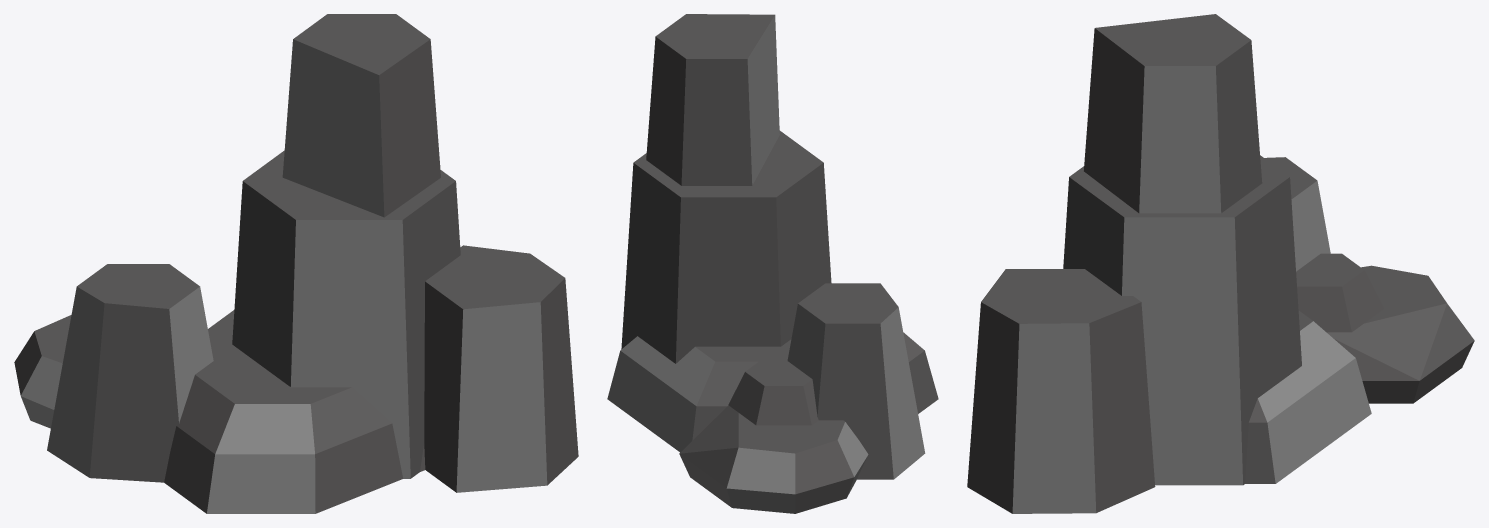
The model's file is Stone.fbx.
3 renders of one model, left to right at view 1: azimuth 30°, elevation 25°; view 2: azimuth 150°, elevation 25°; view 3: azimuth 270°, elevation 25°, orthographic. The views are drawn at different scales.
Visible parts, largest first — view 1: Stone2.001, Stone1.001, Stone4.001, Stone3.001; view 2: Stone2.001, Stone1.001, Stone3.001, Stone4.001; view 3: Stone1.001, Stone2.001, Stone3.001, Stone4.001.
Part boxes in pixels (bbox=[...]): Stone2.001: bbox=[47, 150, 460, 482]; Stone1.001: bbox=[282, 14, 578, 492]; Stone4.001: bbox=[164, 310, 425, 513]; Stone3.001: bbox=[14, 315, 71, 428]; Stone2.001: bbox=[621, 130, 925, 479]; Stone1.001: bbox=[646, 14, 779, 185]; Stone3.001: bbox=[679, 357, 868, 513]; Stone4.001: bbox=[607, 332, 938, 452]; Stone1.001: bbox=[967, 14, 1262, 513]; Stone2.001: bbox=[1063, 155, 1330, 485]; Stone3.001: bbox=[1296, 253, 1474, 403]; Stone4.001: bbox=[1245, 310, 1371, 483].
Bounding box in the file's own units: 425 × 405 × 459.
